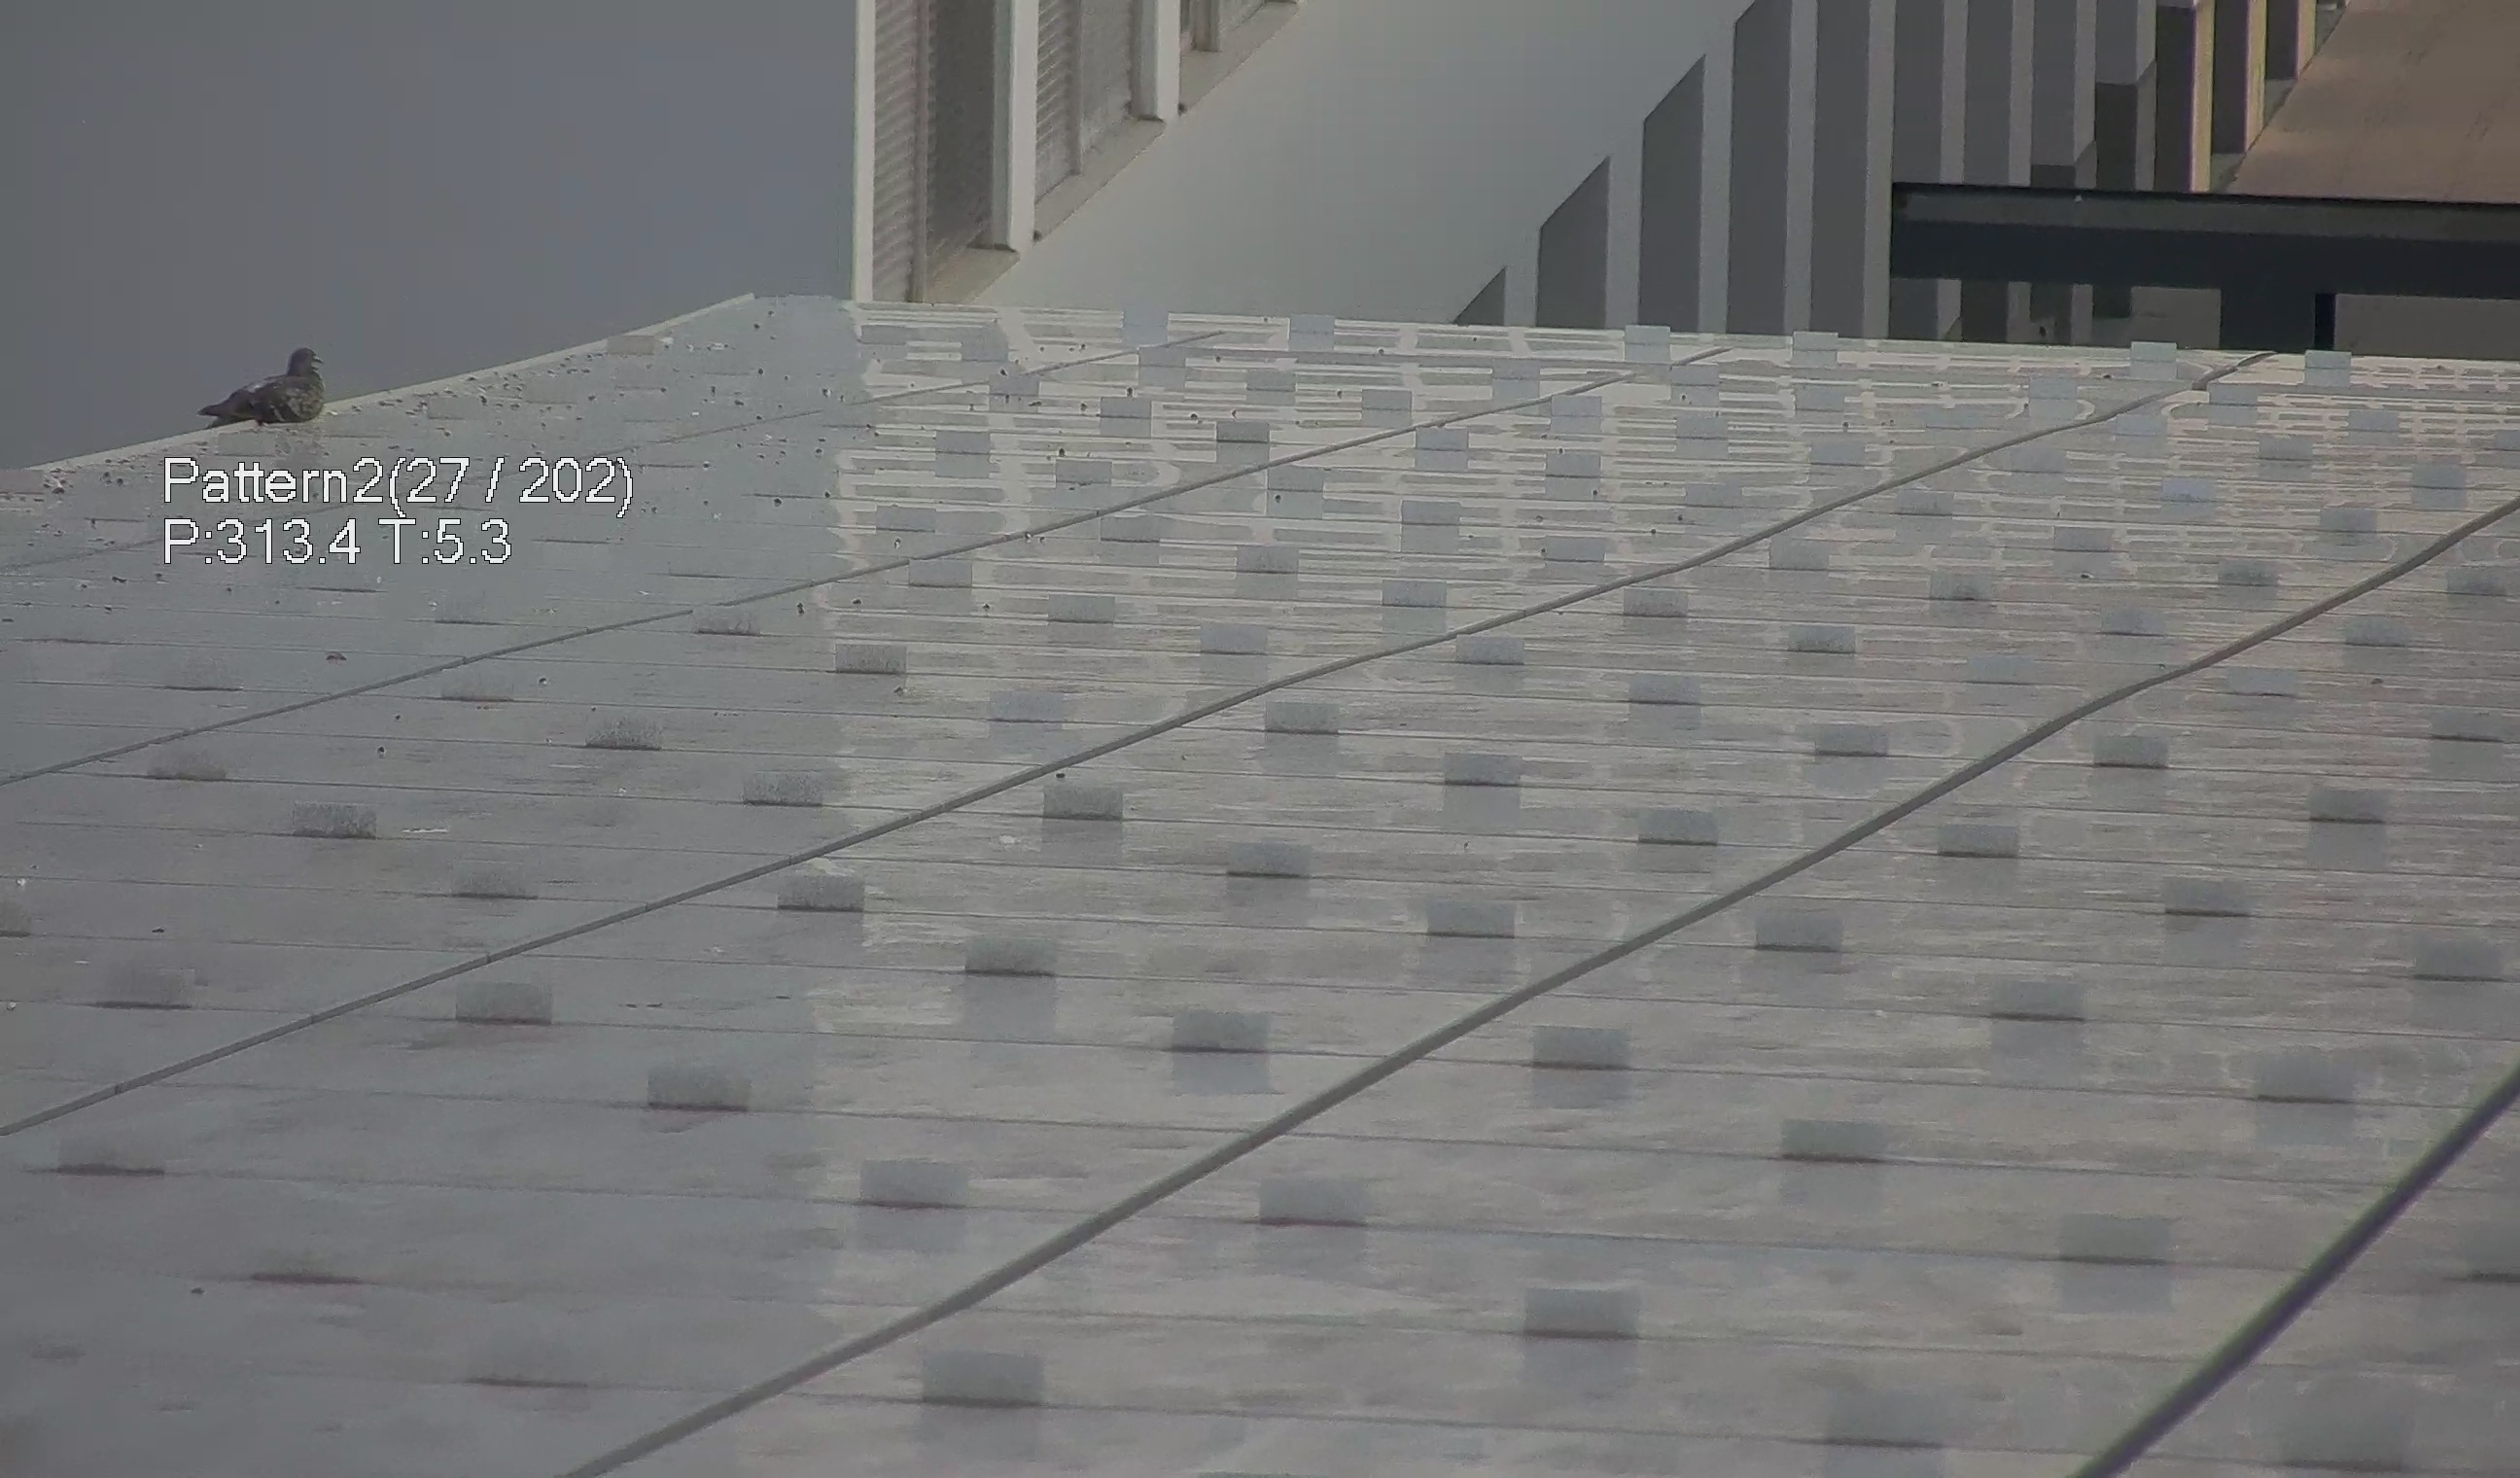Pigeon: (179, 333, 336, 440)
